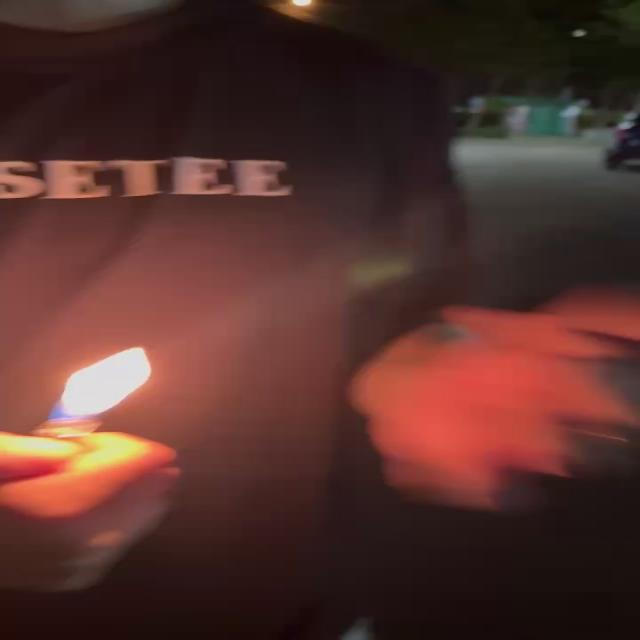Fire: (49, 346, 161, 424)
